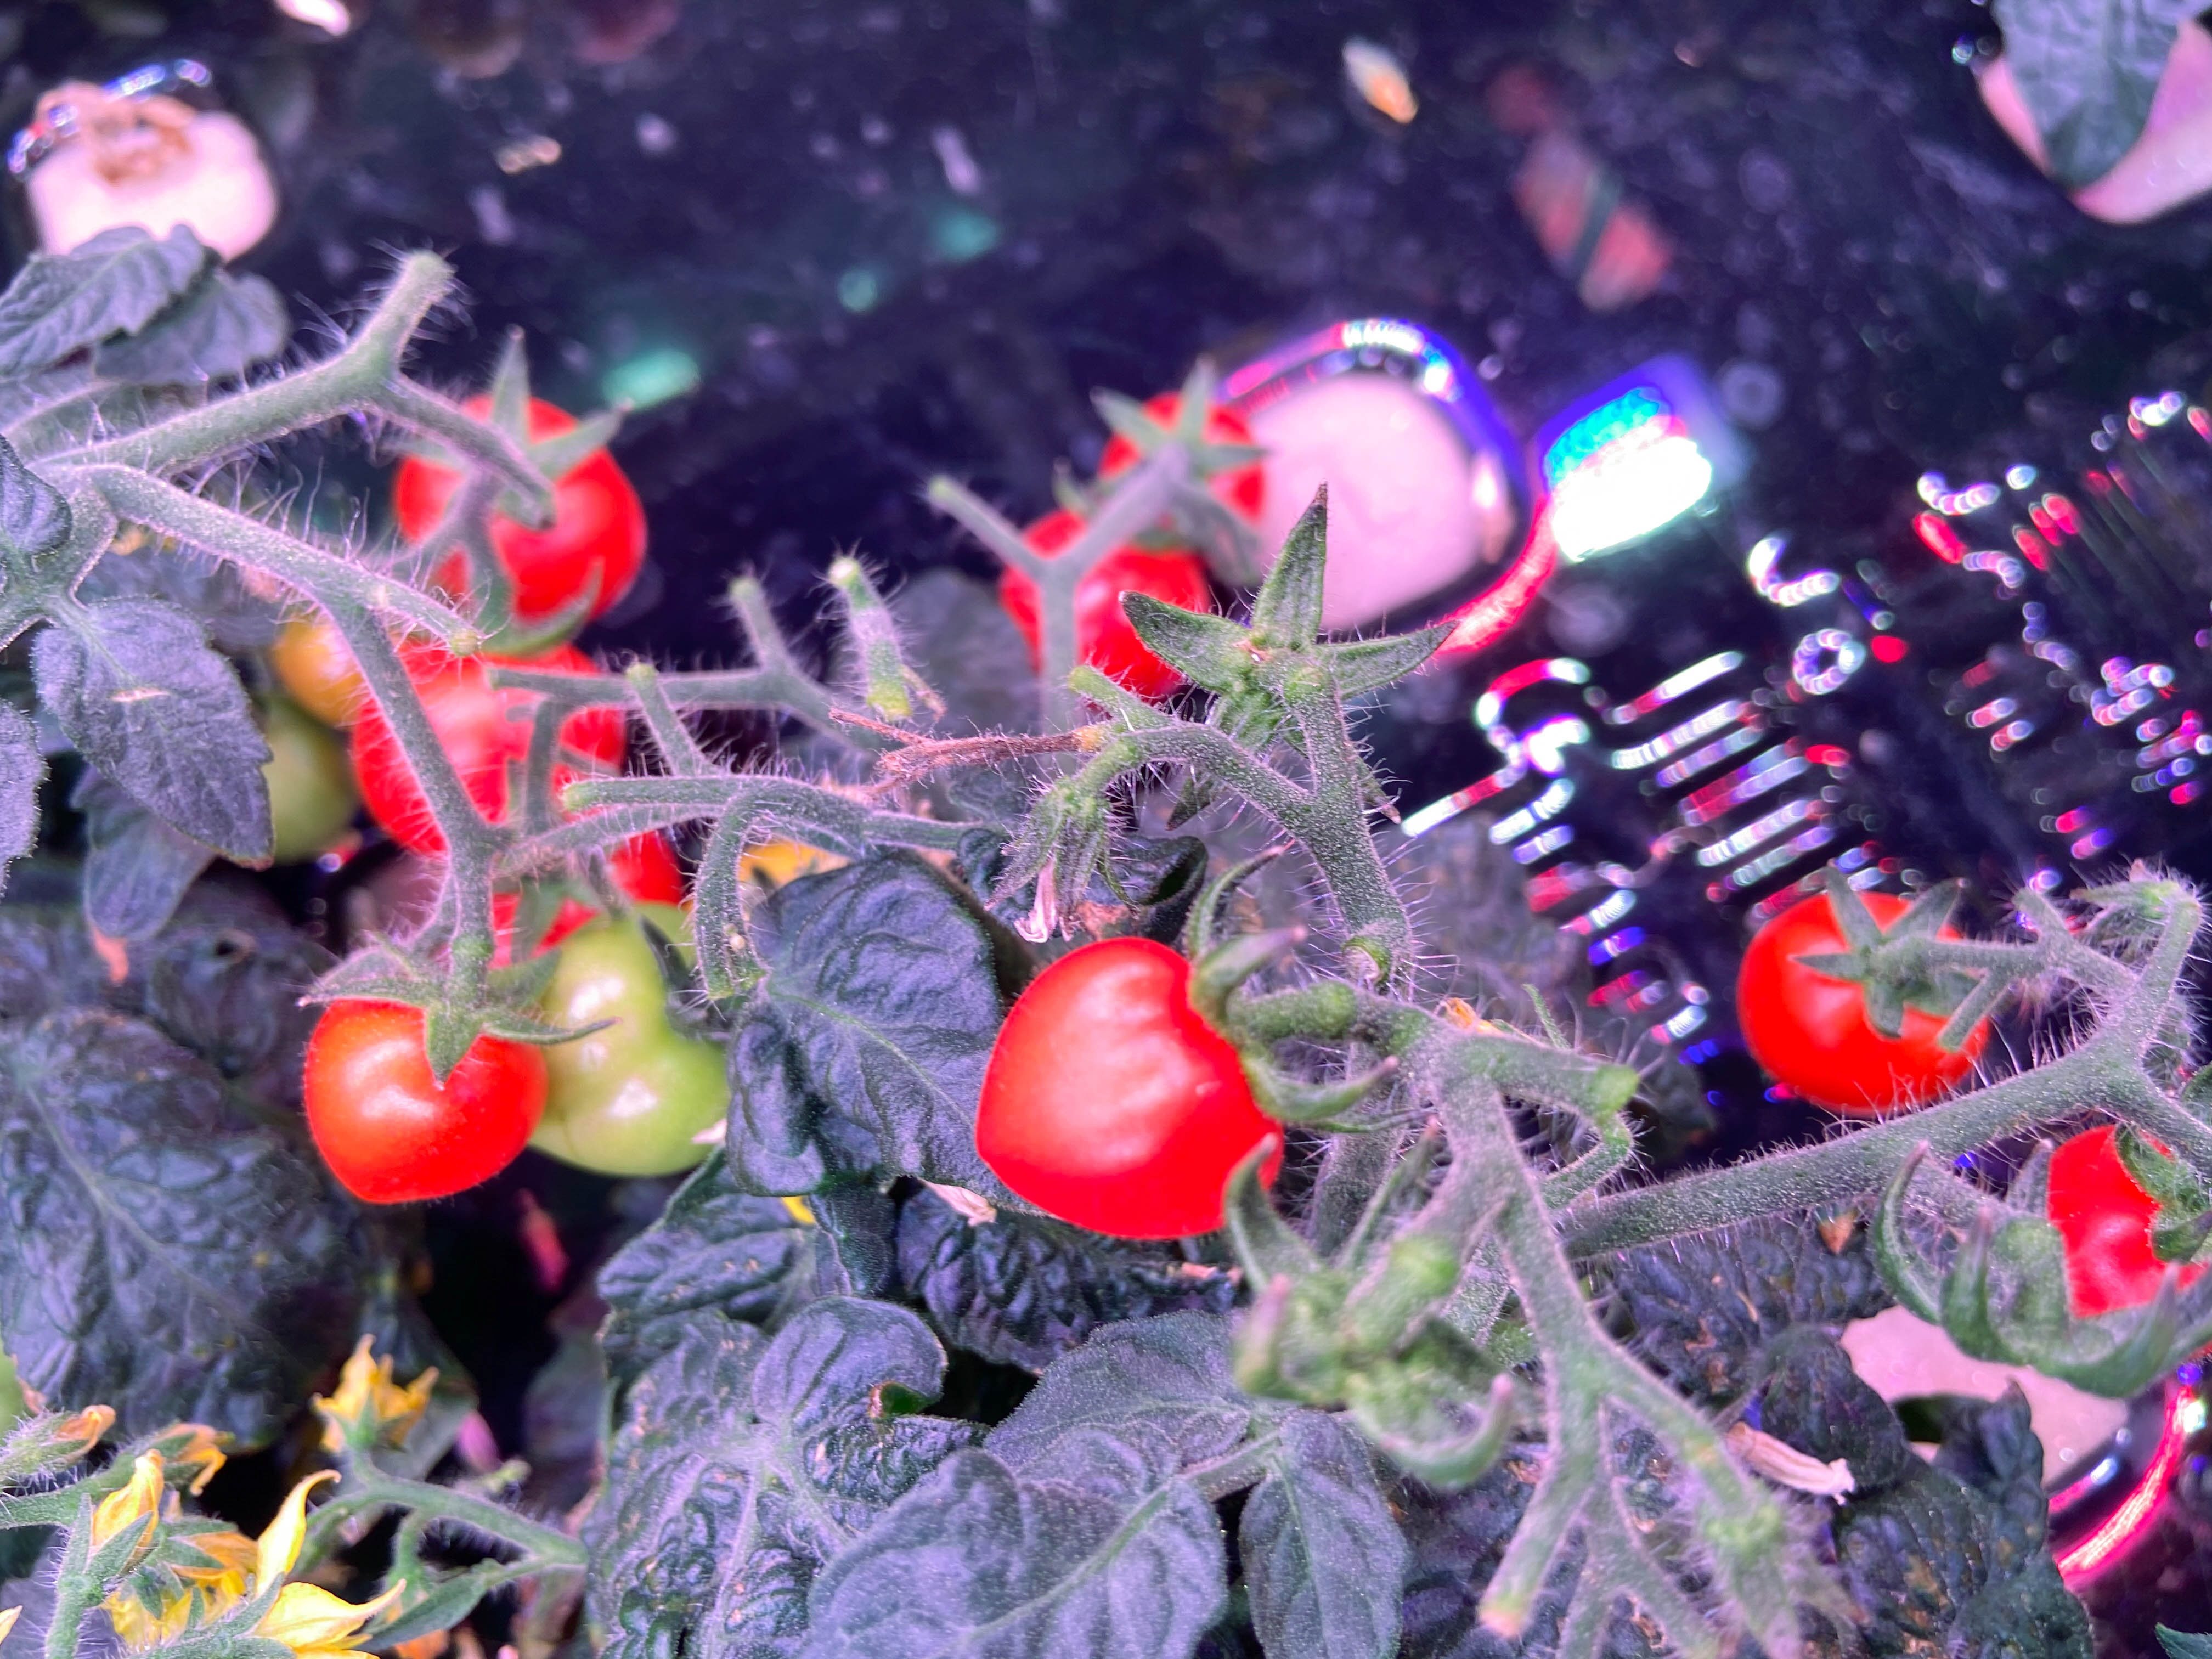green: (214, 690, 359, 863), (211, 1575, 371, 1657)
red: (972, 929, 1282, 1236), (347, 629, 634, 882), (516, 903, 752, 1183), (1738, 877, 1994, 1119), (2017, 1112, 2212, 1406), (399, 403, 637, 640), (303, 979, 540, 1202), (1010, 518, 1211, 702), (273, 572, 460, 725), (1096, 396, 1268, 558)
